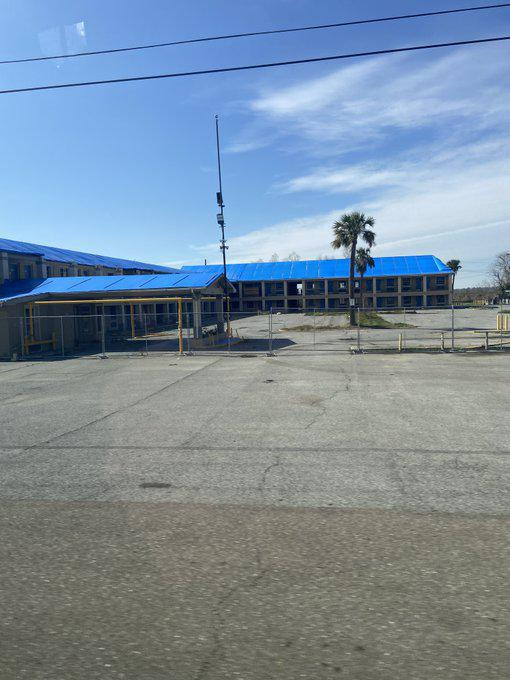major: (8, 231, 489, 363)
